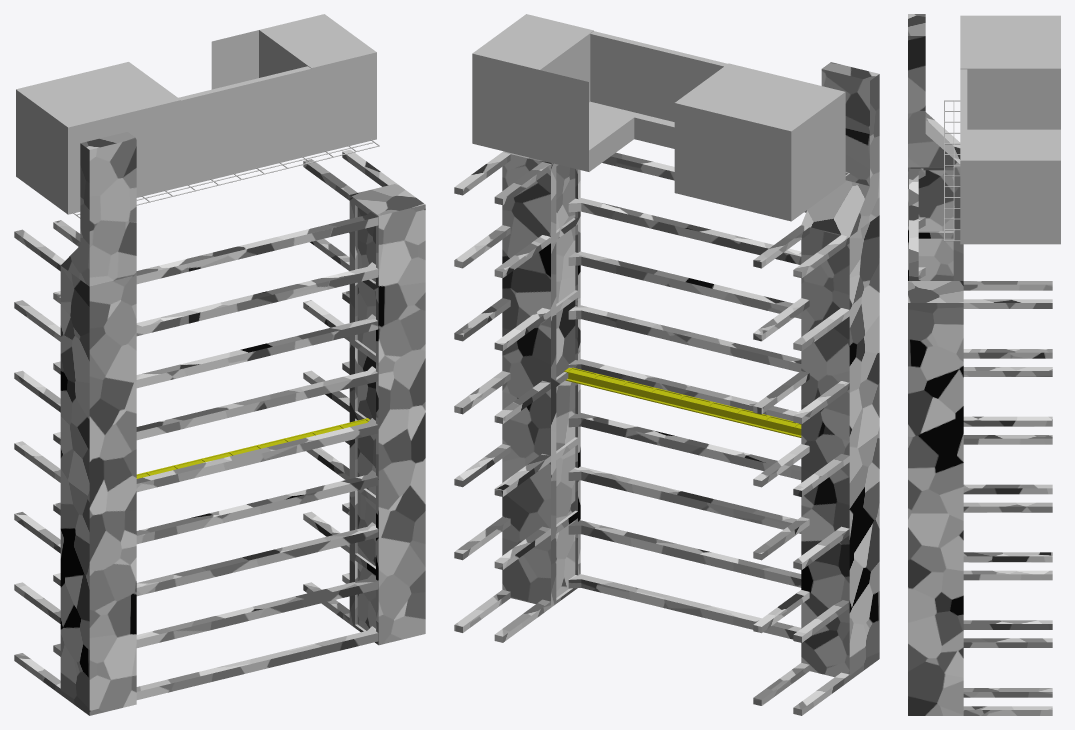
The model's file is Scale_Halle.obj.
3 views of the same model, side by side, from view 1: azimuth 30°, elevation 25°; view 2: azimuth 150°, elevation 25°; view 3: azimuth 270°, elevation 25° (orthographic). The views are drawn at different scales.
Parts seen in each view (by area): view 1: Cube.011, Cube.001, Cube.023, Cube.005, Cube.004, Cube.022, Cylinder.054; view 2: Cube.011, Cube.001, Cube.005, Cube.023, Cube.004, Cube.022; view 3: Cube.001, Cube.005, Cube.004, Cube.011, Cube.023, Cylinder.054, Cylinder.053.
Part boxes in pixels (x1,y1,x2,y2): Cube.011: (14,132,136,715); Cube.001: (303,149,425,645); Cube.023: (136,211,378,699); Cube.005: (177,14,376,187); Cube.004: (16,62,180,214); Cube.022: (136,418,369,478); Cylinder.054: (76,142,378,215); Cube.011: (753,62,879,715); Cube.001: (454,151,580,642); Cube.005: (472,14,727,171); Cube.023: (568,152,806,639); Cube.004: (674,63,845,221); Cube.022: (564,367,801,437); Cube.001: (908,281,1052,715); Cube.005: (960,69,1060,244); Cube.004: (960,15,1060,129); Cube.011: (908,14,1052,562); Cube.023: (909,168,925,280); Cylinder.054: (944,100,954,240); Cylinder.053: (944,100,960,241).
Size of the model in its own units: 31.42 by 50.66 by 12.87.
3 materials, 1 textured.
